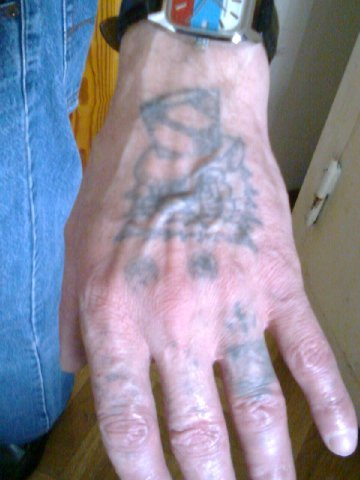tatu8_kot: (109, 80, 271, 277)
